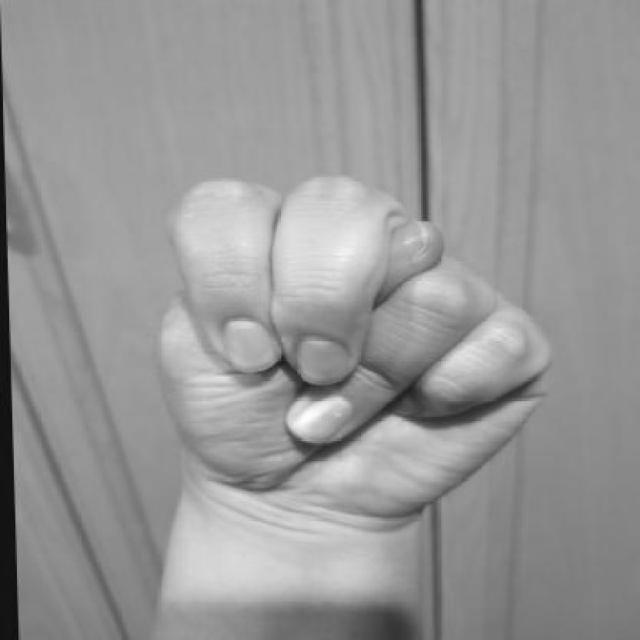N: (133, 169, 562, 523)
